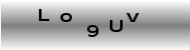9: (86, 23, 99, 37)
L: (37, 7, 51, 22)
U: (108, 18, 124, 33)
o: (59, 11, 73, 24)
v: (126, 11, 139, 22)
